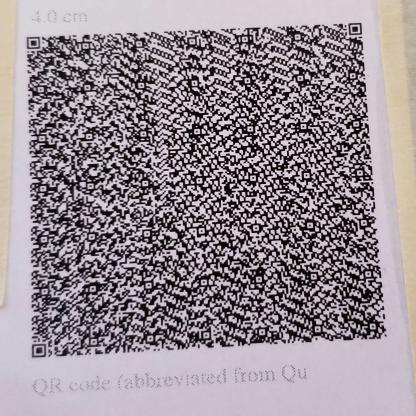qr: (21, 18, 392, 360)
